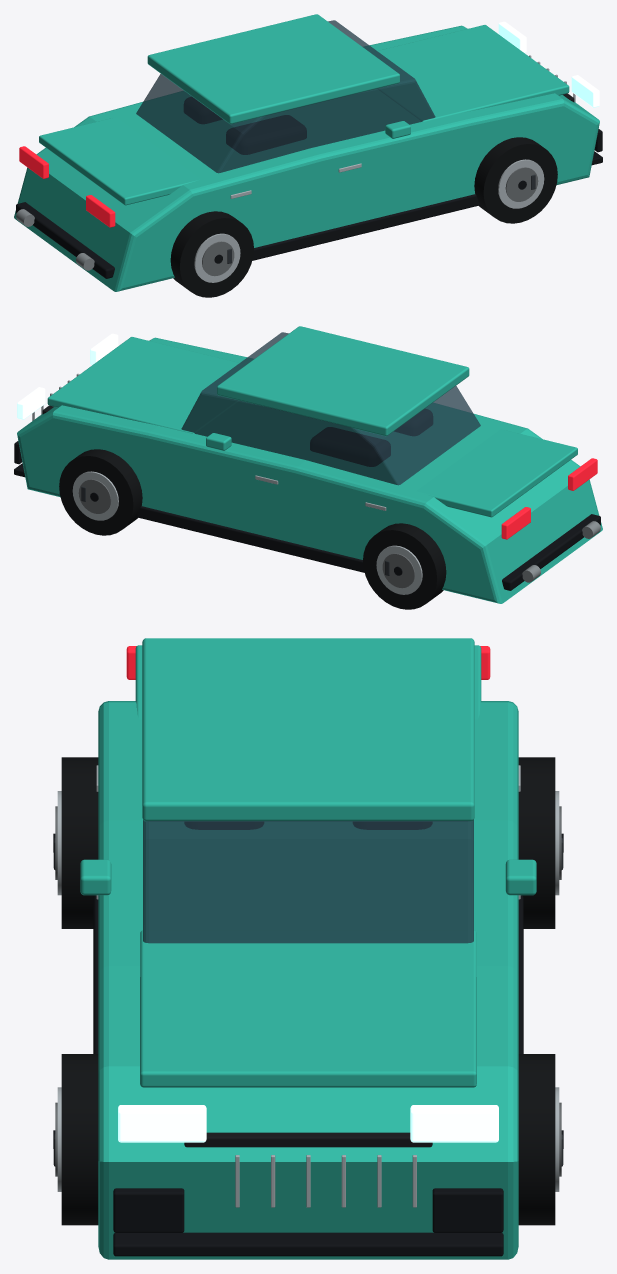
Rendered from ford_fusion.glb.
3 renders of one model, top to bottom at view 1: azimuth 30°, elevation 25°; view 2: azimuth 150°, elevation 25°; view 3: azimuth 270°, elevation 25°, orthographic. The views are drawn at different scales.
Parts seen in each view (by area): view 1: sculpted_body, roof, glasshouse, hood_center, rear_deck, rear_right_wheel_tire, front_right_wheel_tire, side_skirt_1, seat_1, rear_diffuser, front_right_wheel_rim, rear_right_wheel_rim (+7 smaller); view 2: sculpted_body, roof, glasshouse, hood_center, rear_deck, rear_left_wheel_tire, front_left_wheel_tire, side_skirt_-1, seat_-1, rear_diffuser, front_left_wheel_rim, rear_left_wheel_rim (+7 smaller); view 3: sculpted_body, roof, hood_center, glasshouse, front_splitter, front_left_wheel_tire, front_right_wheel_tire, rear_left_wheel_tire, rear_right_wheel_tire, front_grille, headlight_left, headlight_right (+7 smaller).
Boxes of the visible parts, bbox=[...] form: sculpted_body: bbox=[14, 25, 599, 291]; roof: bbox=[147, 14, 399, 124]; glasshouse: bbox=[136, 20, 435, 173]; hood_center: bbox=[372, 25, 569, 121]; rear_deck: bbox=[39, 117, 200, 205]; rear_right_wheel_tire: bbox=[170, 211, 253, 297]; front_right_wheel_tire: bbox=[474, 137, 557, 223]; side_skirt_1: bbox=[252, 194, 480, 260]; seat_1: bbox=[226, 115, 306, 154]; rear_diffuser: bbox=[16, 202, 114, 278]; front_right_wheel_rim: bbox=[498, 159, 544, 208]; rear_right_wheel_rim: bbox=[194, 233, 240, 282]; sculpted_body: bbox=[17, 337, 602, 603]; roof: bbox=[217, 326, 469, 436]; glasshouse: bbox=[181, 332, 480, 485]; hood_center: bbox=[47, 337, 244, 433]; rear_deck: bbox=[416, 429, 577, 517]; rear_left_wheel_tire: bbox=[363, 523, 446, 609]; front_left_wheel_tire: bbox=[59, 449, 142, 535]; side_skirt_-1: bbox=[136, 506, 364, 572]; seat_-1: bbox=[310, 427, 390, 466]; rear_diffuser: bbox=[502, 514, 600, 590]; front_left_wheel_rim: bbox=[72, 471, 118, 520]; rear_left_wheel_rim: bbox=[376, 545, 422, 594]; sculpted_body: bbox=[98, 701, 518, 1259]; roof: bbox=[142, 638, 474, 821]; hood_center: bbox=[140, 930, 476, 1087]; glasshouse: bbox=[143, 820, 473, 943]; front_splitter: bbox=[113, 1232, 503, 1256]; front_left_wheel_tire: bbox=[518, 1054, 555, 1225]; front_right_wheel_tire: bbox=[61, 1054, 98, 1225]; rear_left_wheel_tire: bbox=[518, 757, 555, 928]; rear_right_wheel_tire: bbox=[61, 757, 98, 928]; front_grille: bbox=[184, 1132, 432, 1147]; headlight_left: bbox=[410, 1105, 498, 1142]; headlight_right: bbox=[118, 1105, 206, 1142].
Size of the model in its own units: 4.92 by 1.47 by 2.14.
